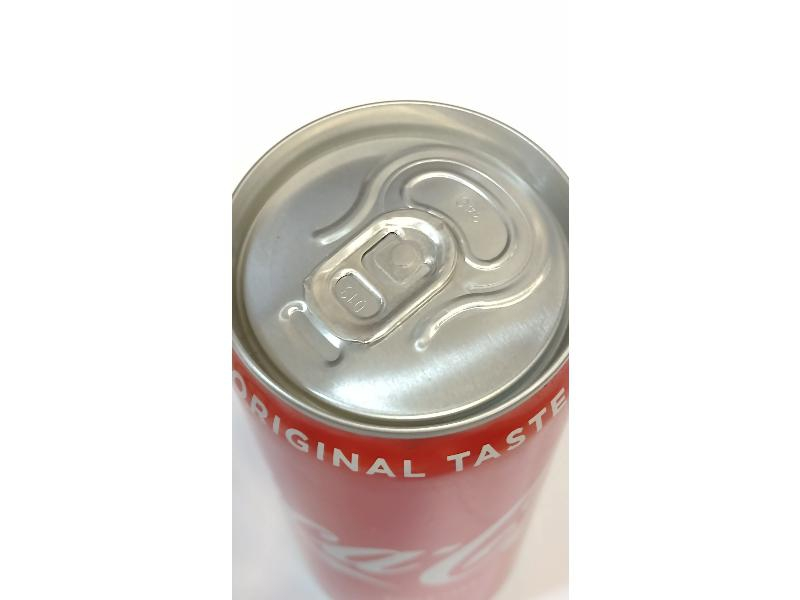can: (232, 101, 570, 593)
